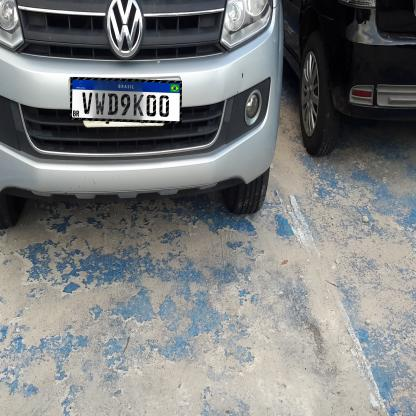PlacaM: (70, 77, 182, 124)
